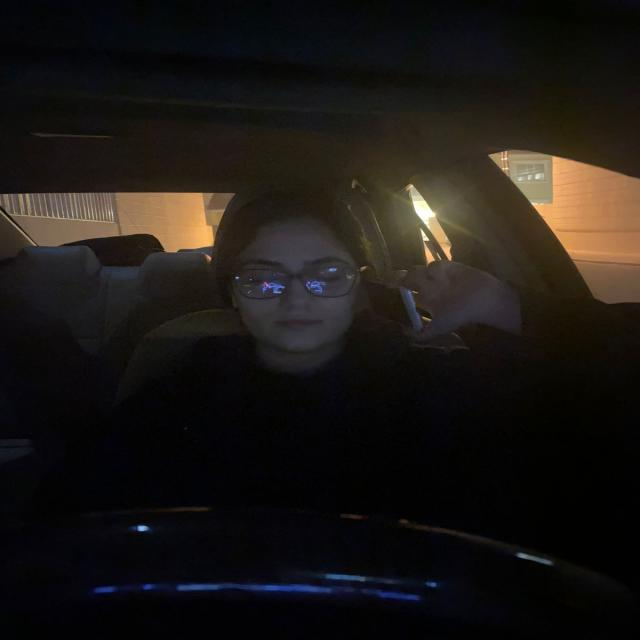person: (210, 191, 382, 364), (374, 271, 434, 349)
